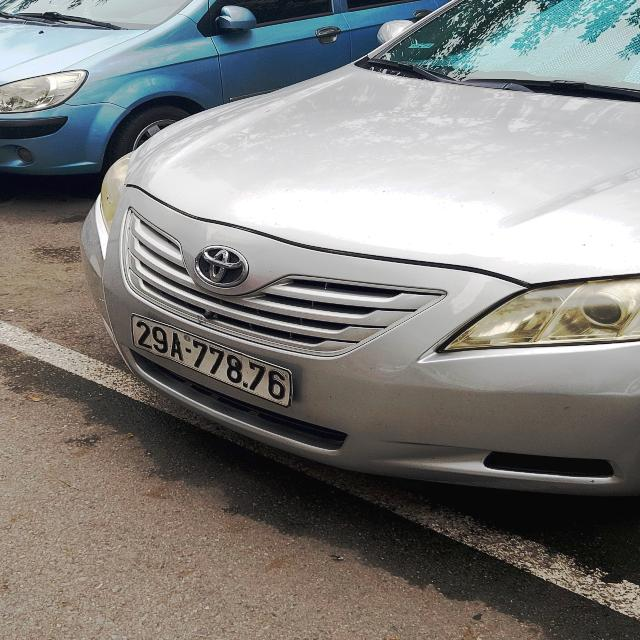license_plate: (127, 312, 292, 405)
